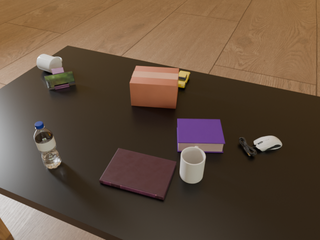book: (100, 148, 176, 200), (177, 119, 225, 153)
bottle: (34, 121, 61, 169)
box: (130, 66, 179, 109)
cup: (180, 146, 205, 183), (37, 54, 62, 73)
mouse: (254, 136, 282, 151)
phone: (45, 71, 75, 88)
toy_car: (178, 71, 190, 88)
